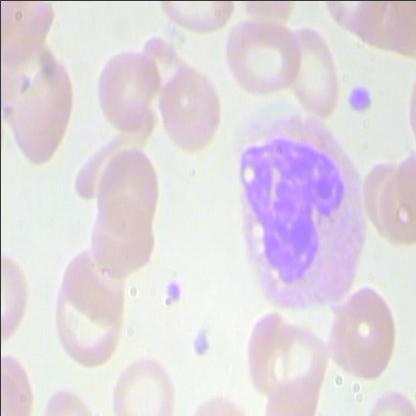Platelets: (343, 79, 371, 116), (190, 328, 214, 362), (161, 278, 186, 306)
RBC: (7, 57, 80, 172), (326, 278, 404, 384), (222, 13, 306, 98), (49, 276, 126, 368), (92, 45, 164, 131), (86, 189, 158, 275), (89, 146, 161, 232), (282, 23, 346, 118), (233, 305, 296, 400), (157, 60, 221, 152), (106, 341, 178, 415)
WBC: (226, 111, 378, 319)
